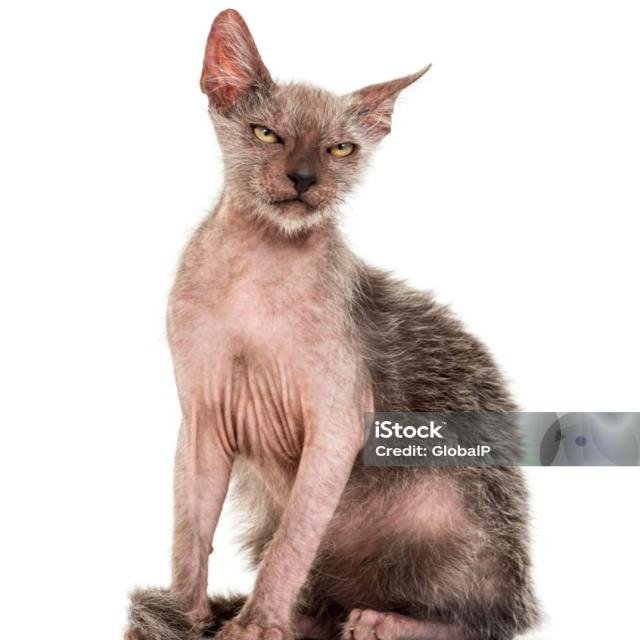Lykoi: (121, 5, 542, 640)
